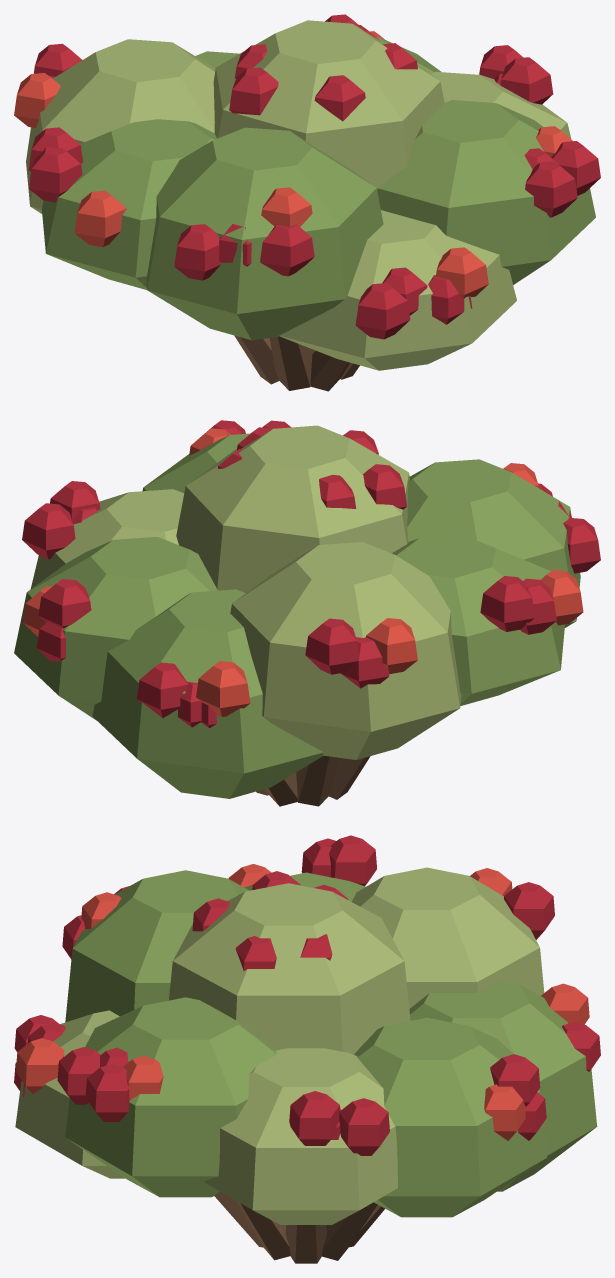
The model's file is berry_thicket.glb.
3 renders of one model, top to bottom at view 1: azimuth 30°, elevation 25°; view 2: azimuth 150°, elevation 25°; view 3: azimuth 270°, elevation 25°, orthographic. The views are drawn at different scales.
Visible parts, largest first — view 1: berry_thicket; view 2: berry_thicket; view 3: berry_thicket.
Boxes of the visible parts, <box> form: berry_thicket: <box>14,14,600,391</box>; berry_thicket: <box>14,420,600,806</box>; berry_thicket: <box>14,835,600,1263</box>.
Bounding box in the file's own units: 2.08 × 1.3 × 2.
